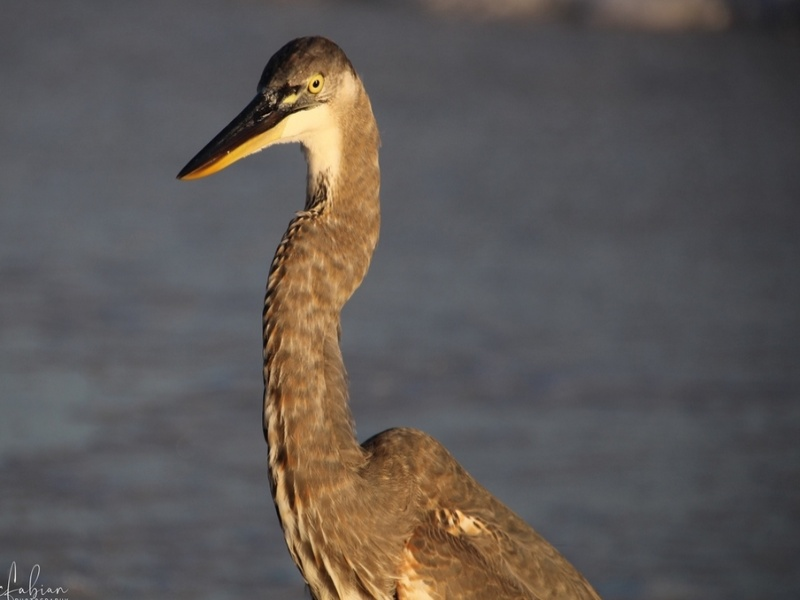heron: (167, 33, 612, 598)
